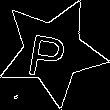P_N: (30, 24, 75, 80)
